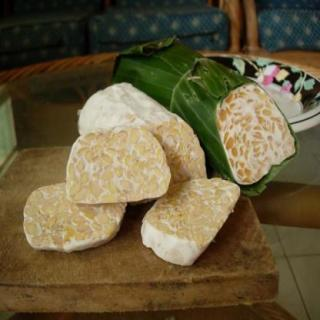Tempe: (64, 124, 173, 206)
